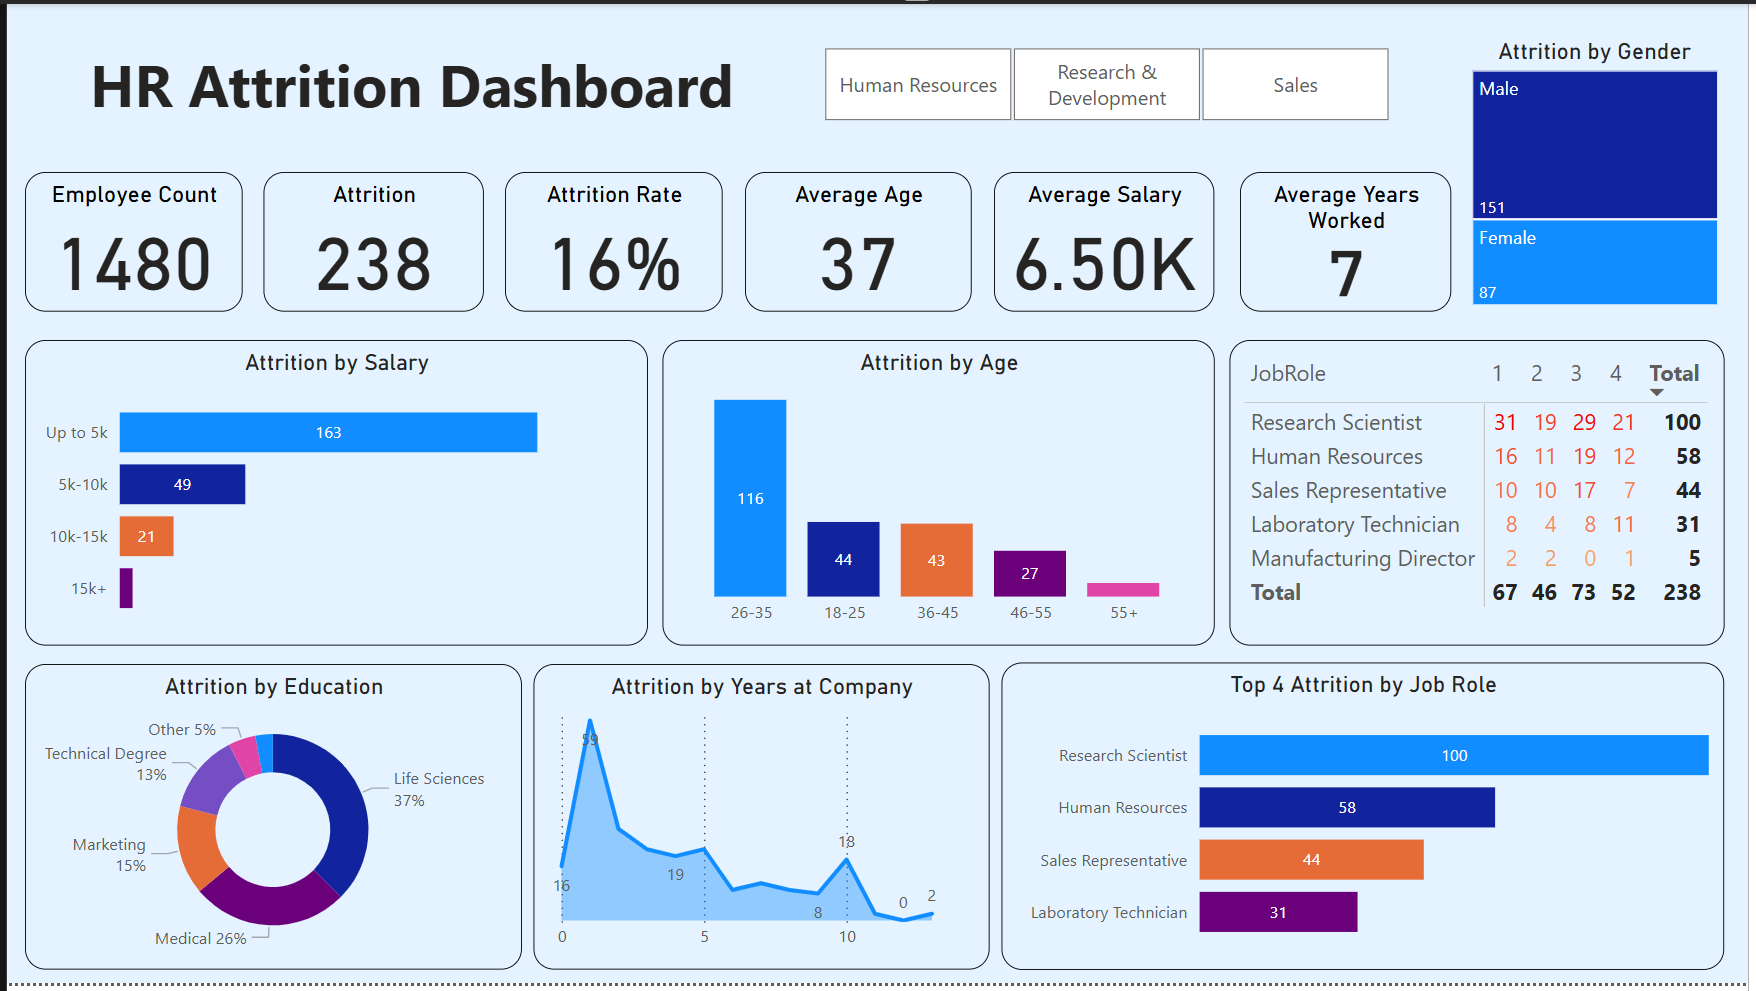

The dashboard page shown, as its layout file describes it:
{"tool":"powerbi","page":{"name":"Page 1","canvas":[1280,720],"ordinal":0},"visuals":[{"type":"card","title":"Employee Count","fields":{"Values":["CountNonNull(HR_Data.EmpID)"]},"box":[13.2,123.5,159.9,102.6],"z":0},{"type":"card","title":"Attrition","fields":{"Values":["Sum(HR_Data.Attrition_Count)"]},"box":[188.6,123.5,162.1,102.6],"z":1000},{"type":"card","title":"Attrition Rate","fields":{"Values":["HR_Data.Attrition_Rate"]},"box":[366.1,123.5,159.9,102.6],"z":2000},{"type":"card","title":"Average Age","fields":{"Values":["Avg(HR_Data.Age)"]},"box":[542.6,123.5,166.5,102.6],"z":3000},{"type":"card","title":"Average Salary","fields":{"Values":["Avg(HR_Data.MonthlyIncome)"]},"box":[725.7,123.5,162.1,102.6],"z":4000},{"type":"card","title":"Average  Years Worked","fields":{"Values":["Avg(HR_Data.YearsAtCompany)"]},"box":[906.5,123.5,155.5,102.6],"z":5000},{"type":"textbox","box":[40.8,24.3,513.9,68.4],"z":6000},{"type":"slicer","fields":{"Values":["Departments.Department"]},"box":[575.2,23.5,464.2,67.2],"z":7000},{"type":"treemap","title":"Attrition by Gender","fields":{"Group":["HR_Data.Gender"],"Values":["Sum(HR_Data.Attrition_Count)"]},"box":[1071.9,24.3,190.8,201.8],"z":8000},{"type":"donutChart","title":"Attrition by Education","fields":{"Category":["Education.Education"],"Y":["Sum(HR_Data.Attrition_Count)"]},"box":[13.2,485.2,365,225],"z":9000},{"type":"barChart","title":"Attrition by Salary","fields":{"Category":["HR_Data.SalarySlab"],"Y":["Sum(HR_Data.Attrition_Count)"],"Series":["HR_Data.SalarySlab"]},"box":[13.2,247,457.7,225],"z":10000},{"type":"pivotTable","title":"Attrition by Education","fields":{"Rows":["Jobs.JobRole"],"Values":["Sum(HR_Data.Attrition_Count)"],"Columns":["HR_Data.JobSatisfaction"]},"box":[898.8,247,363.9,225],"z":11000},{"type":"areaChart","title":"Attrition by Years at Company","fields":{"Category":["HR_Data.YearsAtCompany"],"Y":["Sum(HR_Data.Attrition_Count)"]},"box":[387.1,485.2,335.3,225],"z":12000},{"type":"columnChart","title":"Attrition by Age","fields":{"Category":["HR_Data.AgeGroup"],"Y":["Sum(HR_Data.Attrition_Count)"],"Series":["HR_Data.AgeGroup"]},"box":[481.9,247,405.8,225],"z":13000},{"type":"barChart","title":"Top 4 Attrition by Job Role","fields":{"Category":["Jobs.JobRole"],"Y":["Sum(HR_Data.Attrition_Count)"],"Series":["Jobs.JobRole"]},"box":[731.2,484.1,531.6,226.1],"z":14000},{"type":"textbox","box":[0,0,142.3,47.4],"z":15000}]}

Visuals, with their boxes in screenshot pixels (x1, y1, x2, y2), scaled from the page's 1280x720 canvas onto the 1756x991 screenshot:
"Employee Count" card: 18, 170, 237, 311
"Attrition" card: 259, 170, 481, 311
"Attrition Rate" card: 502, 170, 722, 311
"Average Age" card: 744, 170, 973, 311
"Average Salary" card: 996, 170, 1218, 311
"Average  Years Worked" card: 1244, 170, 1457, 311
textbox: 56, 33, 761, 128
slicer - Departments.Department: 789, 32, 1426, 125
"Attrition by Gender" treemap: 1471, 33, 1732, 311
"Attrition by Education" donutChart: 18, 668, 519, 978
"Attrition by Salary" barChart: 18, 340, 646, 650
"Attrition by Education" pivotTable: 1233, 340, 1732, 650
"Attrition by Years at Company" areaChart: 531, 668, 991, 978
"Attrition by Age" columnChart: 661, 340, 1218, 650
"Top 4 Attrition by Job Role" barChart: 1003, 666, 1732, 978
textbox: 0, 0, 195, 65
